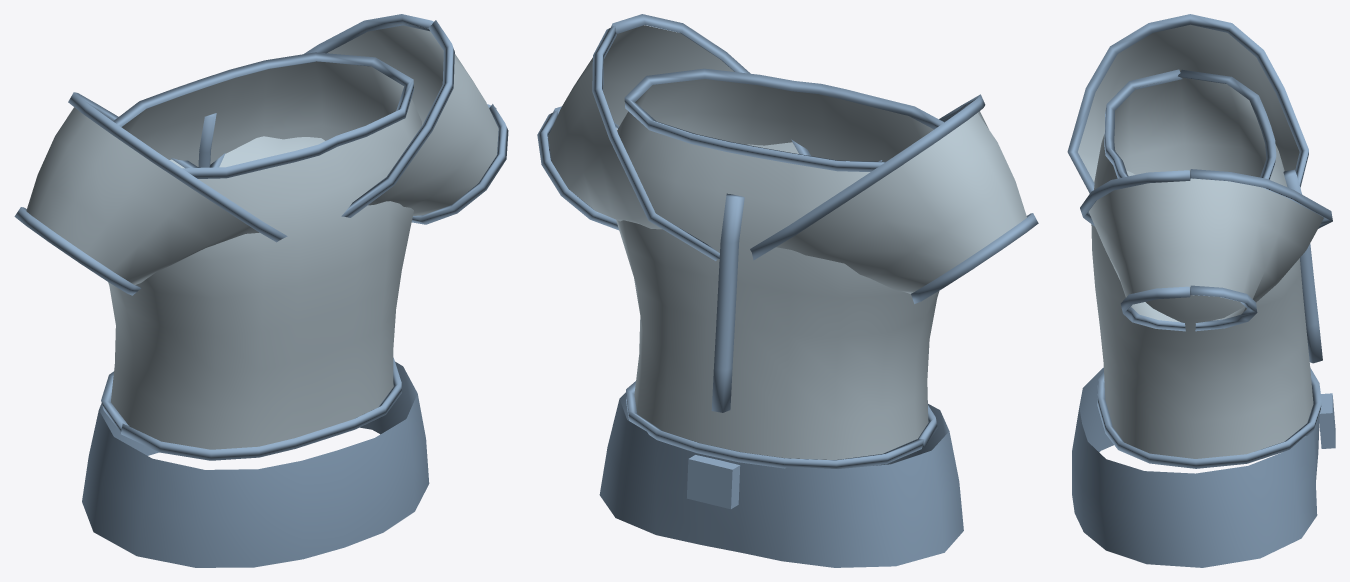
Rendered from platinum_chainmail.glb.
3 views of the same model, side by side, from view 1: azimuth 30°, elevation 25°; view 2: azimuth 150°, elevation 25°; view 3: azimuth 270°, elevation 25° (orthographic). The views are drawn at different scales.
Parts seen in each view (by area): view 1: platinum_chainmail_chest; view 2: platinum_chainmail_chest; view 3: platinum_chainmail_chest.
Boxes of the visible parts, left/top/right/bottom form: platinum_chainmail_chest: left=14, top=14, right=508, bottom=567; platinum_chainmail_chest: left=537, top=14, right=1038, bottom=567; platinum_chainmail_chest: left=1067, top=14, right=1335, bottom=567.
Bounding box in the file's own units: 0.6477 × 0.5848 × 0.3444.
